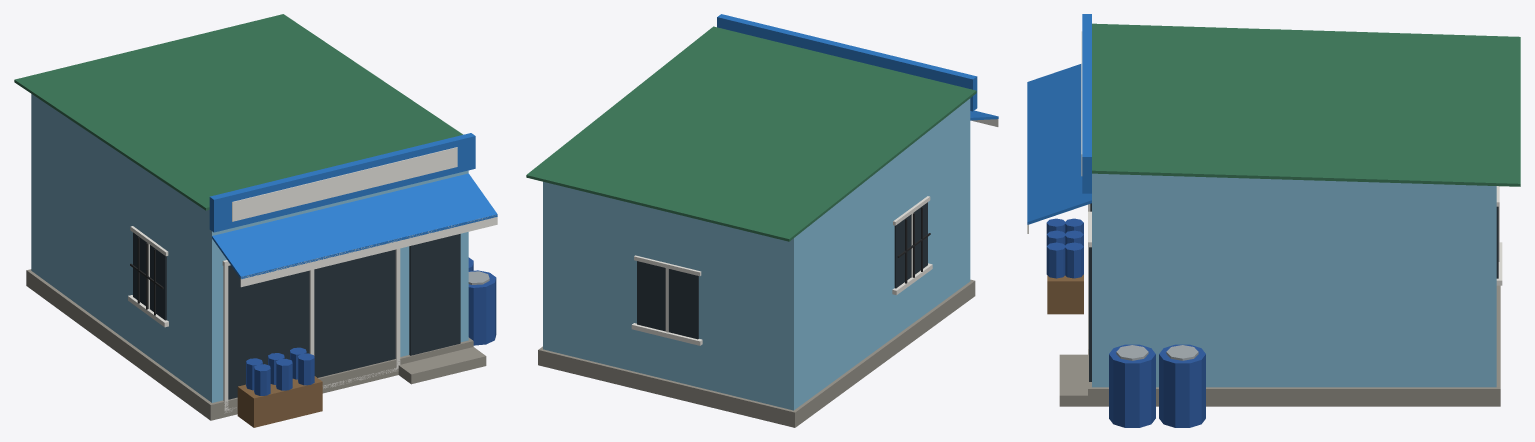
The model's file is BAY_F_Shop_C.glb.
3 views of the same model, side by side, from view 1: azimuth 30°, elevation 25°; view 2: azimuth 150°, elevation 25°; view 3: azimuth 270°, elevation 25° (orthographic). The views are drawn at different scales.
Parts seen in each view (by area): view 1: BAY_F_Shop_C; view 2: BAY_F_Shop_C; view 3: BAY_F_Shop_C.
Part boxes in pixels (<box>): BAY_F_Shop_C: <box>14,14,497,427</box>; BAY_F_Shop_C: <box>526,14,998,427</box>; BAY_F_Shop_C: <box>1027,14,1520,427</box>.
Bounding box in the file's own units: 4.88 × 3.4 × 6.1.
Materials: 1 (1 with a texture image).
